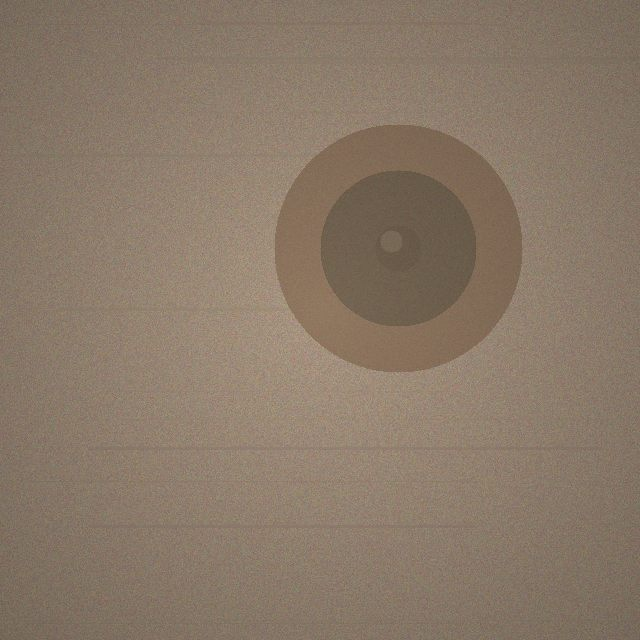good: (274, 124, 522, 372)
